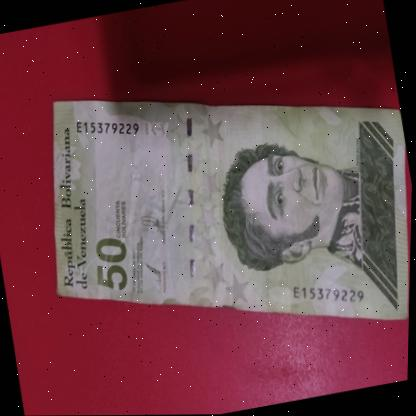vef_front: (21, 39, 415, 380)
